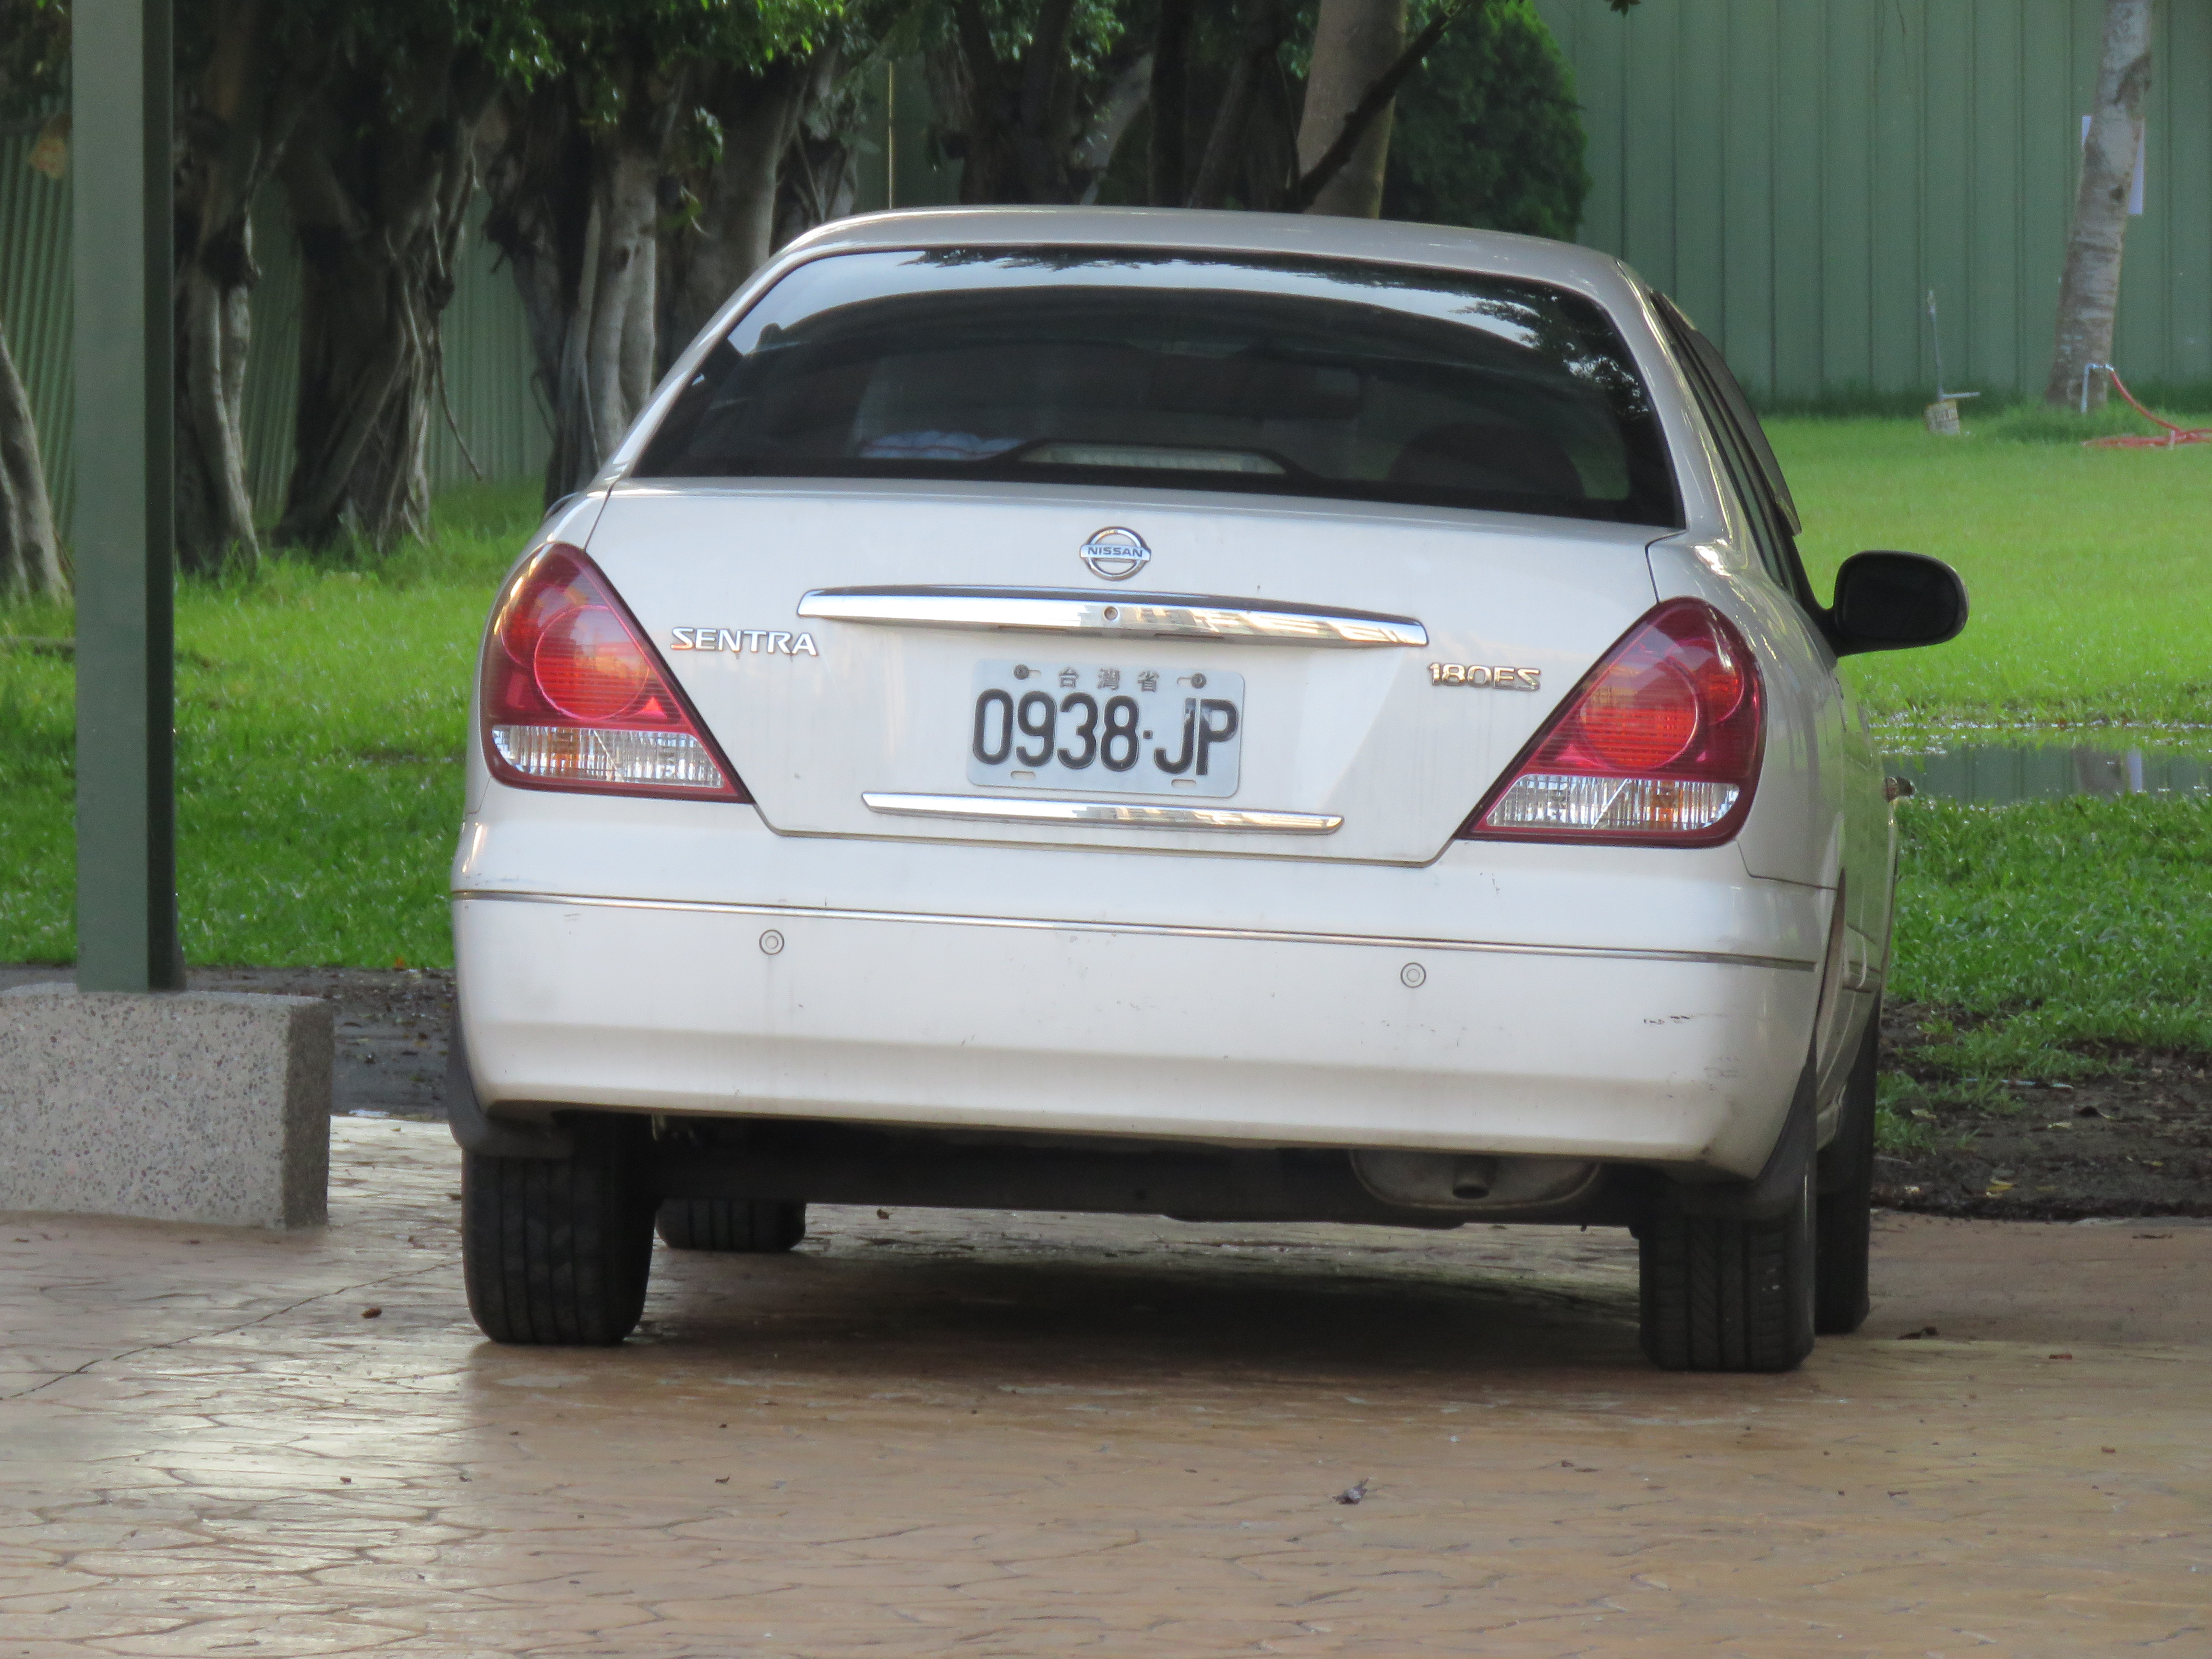car: (446, 197, 1965, 1378)
car_card: (954, 650, 1259, 814)
